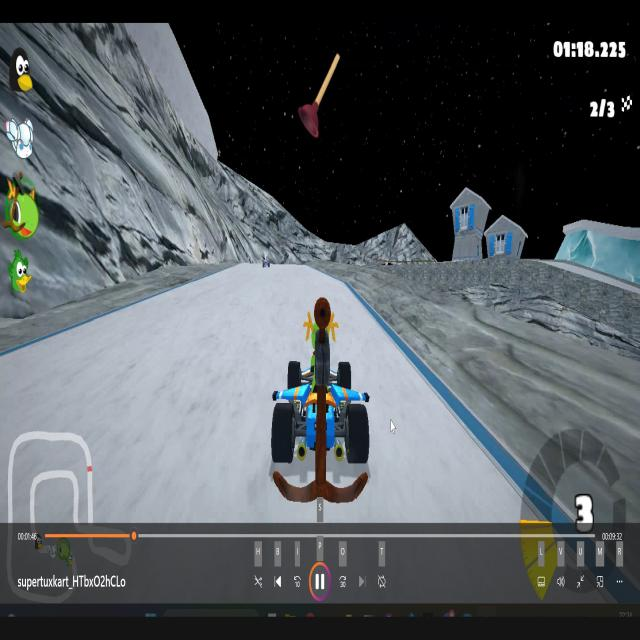player_kart: (270, 298, 374, 514)
track: (2, 360, 271, 518), (376, 436, 488, 524), (134, 306, 272, 358), (374, 377, 442, 433), (272, 266, 336, 294), (202, 278, 272, 303), (93, 322, 134, 356), (374, 337, 412, 373), (61, 329, 91, 358), (168, 290, 204, 305), (238, 260, 261, 278)
